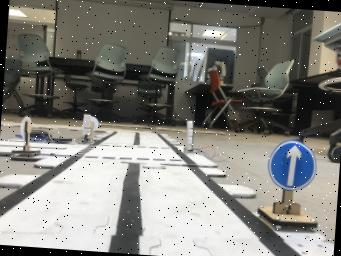forward: (257, 139, 317, 228)
street: (0, 129, 301, 256)
